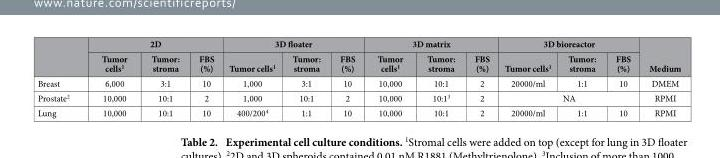table: (36, 37, 680, 118)
table column: (220, 37, 283, 118), (496, 37, 558, 118), (84, 37, 138, 118), (138, 37, 188, 118), (414, 37, 464, 118), (365, 37, 414, 118), (36, 37, 84, 118), (558, 37, 605, 118), (283, 37, 329, 118), (639, 37, 680, 118), (329, 37, 365, 118), (605, 37, 639, 118), (188, 37, 220, 118), (464, 37, 496, 118)
table column header: (36, 37, 680, 75)
table row: (36, 50, 680, 75), (36, 75, 680, 90), (36, 90, 680, 105), (36, 37, 680, 50), (36, 105, 680, 118)
table spanning cell: (496, 90, 639, 105), (220, 37, 365, 50), (496, 37, 639, 50), (84, 37, 220, 50), (365, 37, 496, 50), (639, 37, 680, 75)
